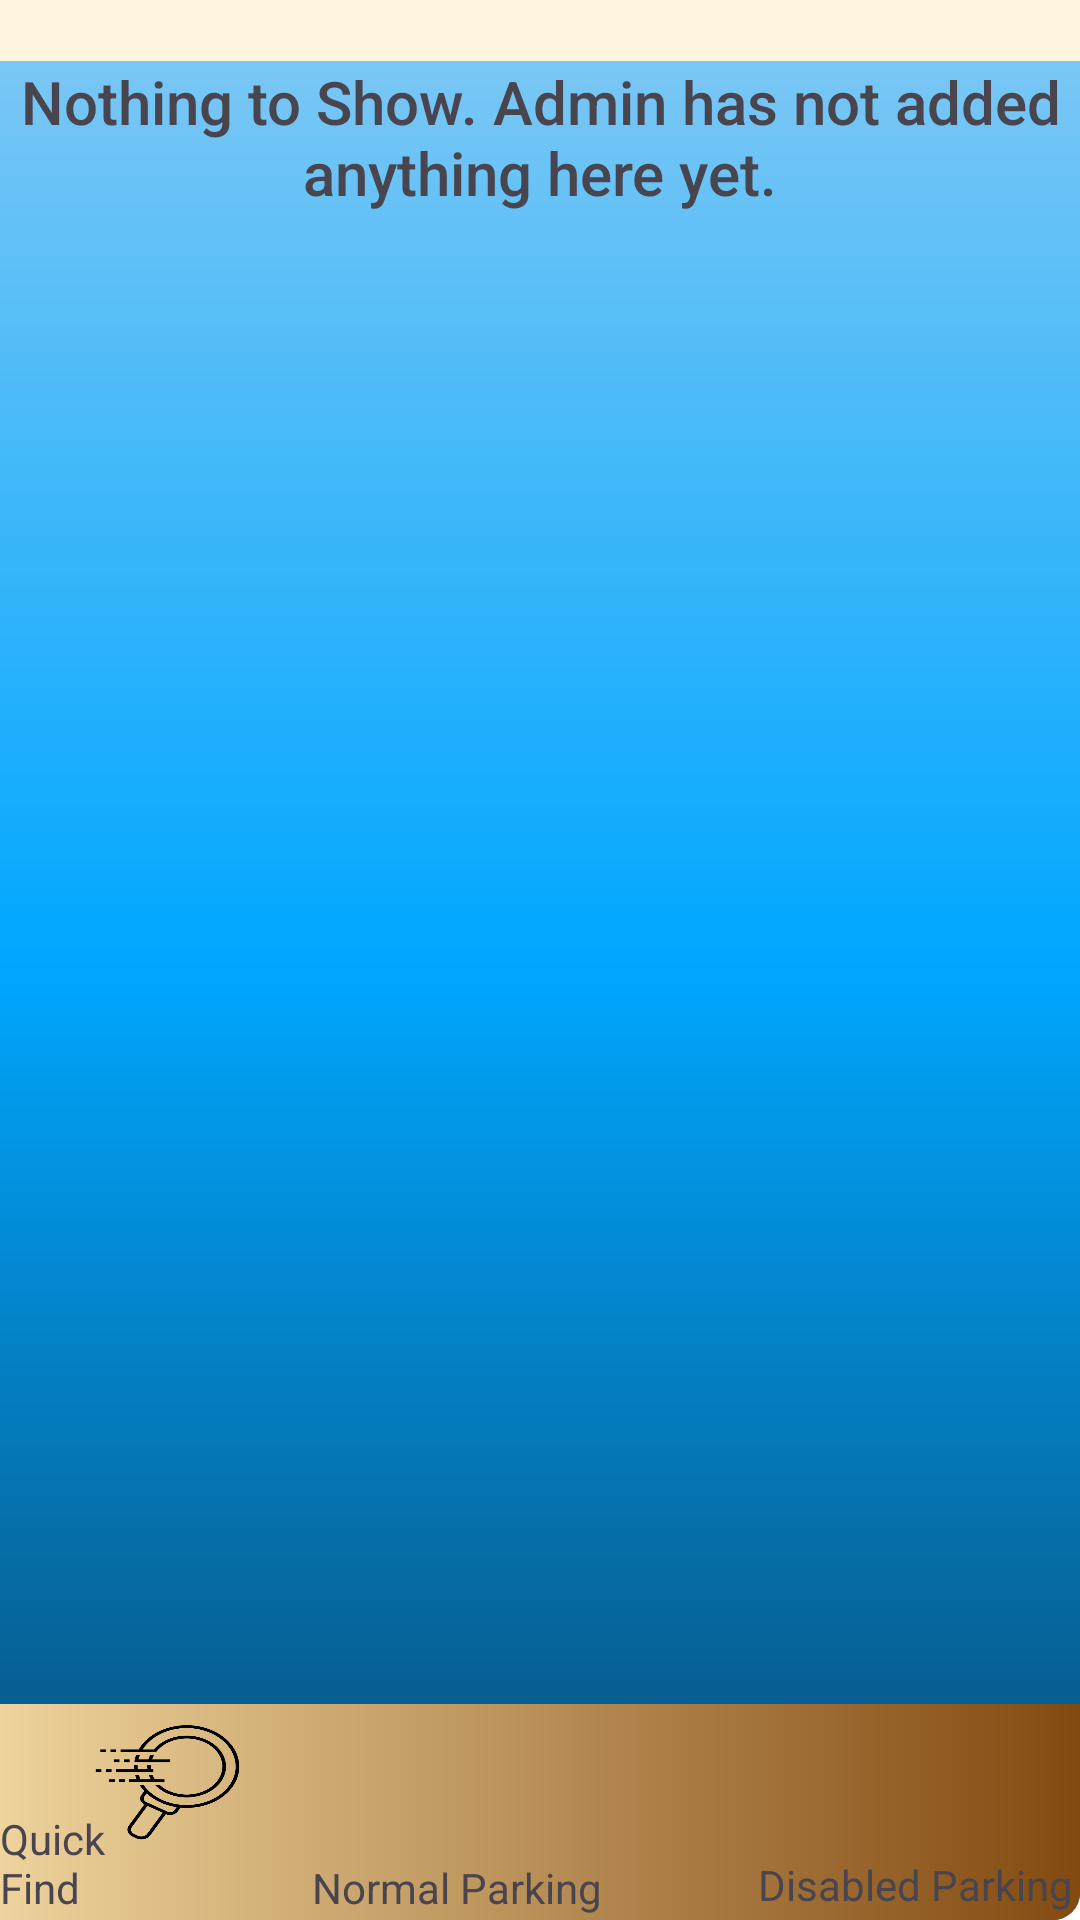

Icons on this 1080*1920 Android screen, each with the point to tap as point (x, y):
search: point (167, 1782)
